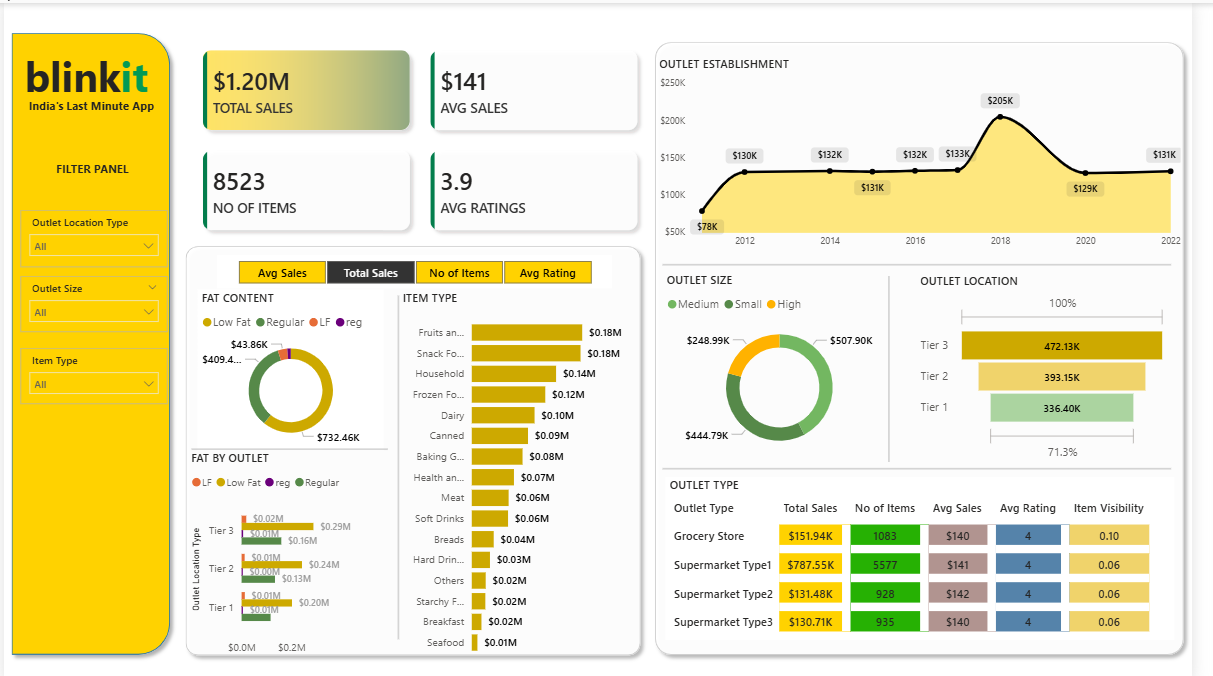

What the dashboard file says about the page in this screenshot:
{"tool":"powerbi","page":{"name":"Page 1","canvas":[1400,800],"ordinal":0},"visuals":[{"type":"shape","box":[0,26.9,204.6,750.3],"z":0},{"type":"textbox","box":[18.6,47.5,167.4,74.4],"z":1000},{"type":"textbox","box":[18.6,105.4,167.4,35.1],"z":2000},{"type":"cardVisual","fields":{"Data":["BlinkIT Grocery Data.Total Sales","BlinkIT Grocery Data.Avg Sales","BlinkIT Grocery Data.No of Items","BlinkIT Grocery Data.Avg Rating"]},"box":[204.6,26.9,570.5,270.8],"z":3000},{"type":"shape","box":[204.6,277,553.9,500.2],"z":4000},{"type":"donutChart","title":"FAT CONTENT","fields":{"Y":["BlinkIT Grocery Data.Total Sales"],"Category":["BlinkIT Grocery Data.Item Fat Content"]},"box":[227.4,336.9,219.1,190.2],"z":5000},{"type":"slicer","fields":{"Values":["Metrics.Metrics"]},"box":[250.1,297.6,465.1,39.3],"z":6000},{"type":"clusteredBarChart","title":"FAT BY OUTLET","fields":{"Y":["BlinkIT Grocery Data.Total Sales"],"Category":["BlinkIT Grocery Data.Outlet Location Type"],"Series":["BlinkIT Grocery Data.Item Fat Content"]},"box":[215,527.1,237.7,250.1],"z":7000},{"type":"shape","box":[221.2,489.9,231.5,72.3],"z":8000},{"type":"shape","box":[446.5,345.2,35.1,405.1],"z":9000},{"type":"barChart","title":"ITEM TYPE","fields":{"Y":["BlinkIT Grocery Data.Total Sales"],"Category":["BlinkIT Grocery Data.Item Type"]},"box":[465.1,336.9,293.5,440.3],"z":10000},{"type":"shape","box":[758.6,37.2,640.8,740],"z":11000},{"type":"lineChart","title":"OUTLET ESTABLISHMENT","fields":{"Category":["BlinkIT Grocery Data.Outlet Establishment Year"],"Y":["BlinkIT Grocery Data.Total Sales"]},"box":[766.8,62,624.2,235.6],"z":12000},{"type":"shape","box":[775.1,272.8,599.4,72.3],"z":13000},{"type":"donutChart","title":"OUTLET SIZE","fields":{"Y":["BlinkIT Grocery Data.Total Sales"],"Category":["BlinkIT Grocery Data.Outlet Size"]},"box":[775.1,316.2,274.9,225.3],"z":14000},{"type":"shape","box":[1025.2,322.4,35.1,219.1],"z":14001},{"type":"funnel","title":"OUTLET LOCATION","fields":{"Y":["Sum(BlinkIT Grocery Data.Sales)"],"Category":["BlinkIT Grocery Data.Outlet Location Type"]},"box":[1074.8,318.3,299.7,225.3],"z":14002},{"type":"shape","box":[775.1,512.6,599.4,72.3],"z":14003},{"type":"pivotTable","title":"OUTLET TYPE","fields":{"Rows":["BlinkIT Grocery Data.Outlet Type"],"Values":["BlinkIT Grocery Data.Total Sales","BlinkIT Grocery Data.No of Items","BlinkIT Grocery Data.Avg Sales","BlinkIT Grocery Data.Avg Rating","Avg(BlinkIT Grocery Data.Item Visibility)"]},"box":[779.2,558.1,599.4,192.2],"z":14004},{"type":"slicer","fields":{"Values":["BlinkIT Grocery Data.Outlet Size"]},"box":[18.6,322.4,173.6,66.1],"z":14006},{"type":"slicer","fields":{"Values":["BlinkIT Grocery Data.Item Type"]},"box":[18.6,407.2,173.6,66.1],"z":14007},{"type":"textbox","box":[55.8,179.8,99.2,33.1],"z":14008},{"type":"slicer","fields":{"Values":["BlinkIT Grocery Data.Outlet Location Type"]},"box":[19.4,243.9,173.2,67.2],"z":14009}]}

Visuals, with their boxes in screenshot pixels (x1, y1, x2, y2), scaled from the page's 1400x800 canvas onto the 1213x676 screenshot:
shape: <box>0,23,177,657</box>
textbox: <box>16,40,161,103</box>
textbox: <box>16,89,161,119</box>
cardVisual - BlinkIT Grocery Data.Total Sales x BlinkIT Grocery Data.Avg Sales: <box>177,23,672,252</box>
shape: <box>177,234,657,657</box>
"FAT CONTENT" donutChart: <box>197,285,387,445</box>
slicer - Metrics.Metrics: <box>217,251,620,285</box>
"FAT BY OUTLET" clusteredBarChart: <box>186,445,392,657</box>
shape: <box>192,414,392,475</box>
shape: <box>387,292,417,634</box>
"ITEM TYPE" barChart: <box>403,285,657,657</box>
shape: <box>657,31,1212,657</box>
"OUTLET ESTABLISHMENT" lineChart: <box>664,52,1205,251</box>
shape: <box>672,231,1191,292</box>
"OUTLET SIZE" donutChart: <box>672,267,910,458</box>
shape: <box>888,272,919,458</box>
"OUTLET LOCATION" funnel: <box>931,269,1191,459</box>
shape: <box>672,433,1191,494</box>
"OUTLET TYPE" pivotTable: <box>675,472,1194,634</box>
slicer - BlinkIT Grocery Data.Outlet Size: <box>16,272,167,328</box>
slicer - BlinkIT Grocery Data.Item Type: <box>16,344,167,400</box>
textbox: <box>48,152,134,180</box>
slicer - BlinkIT Grocery Data.Outlet Location Type: <box>17,206,167,263</box>
